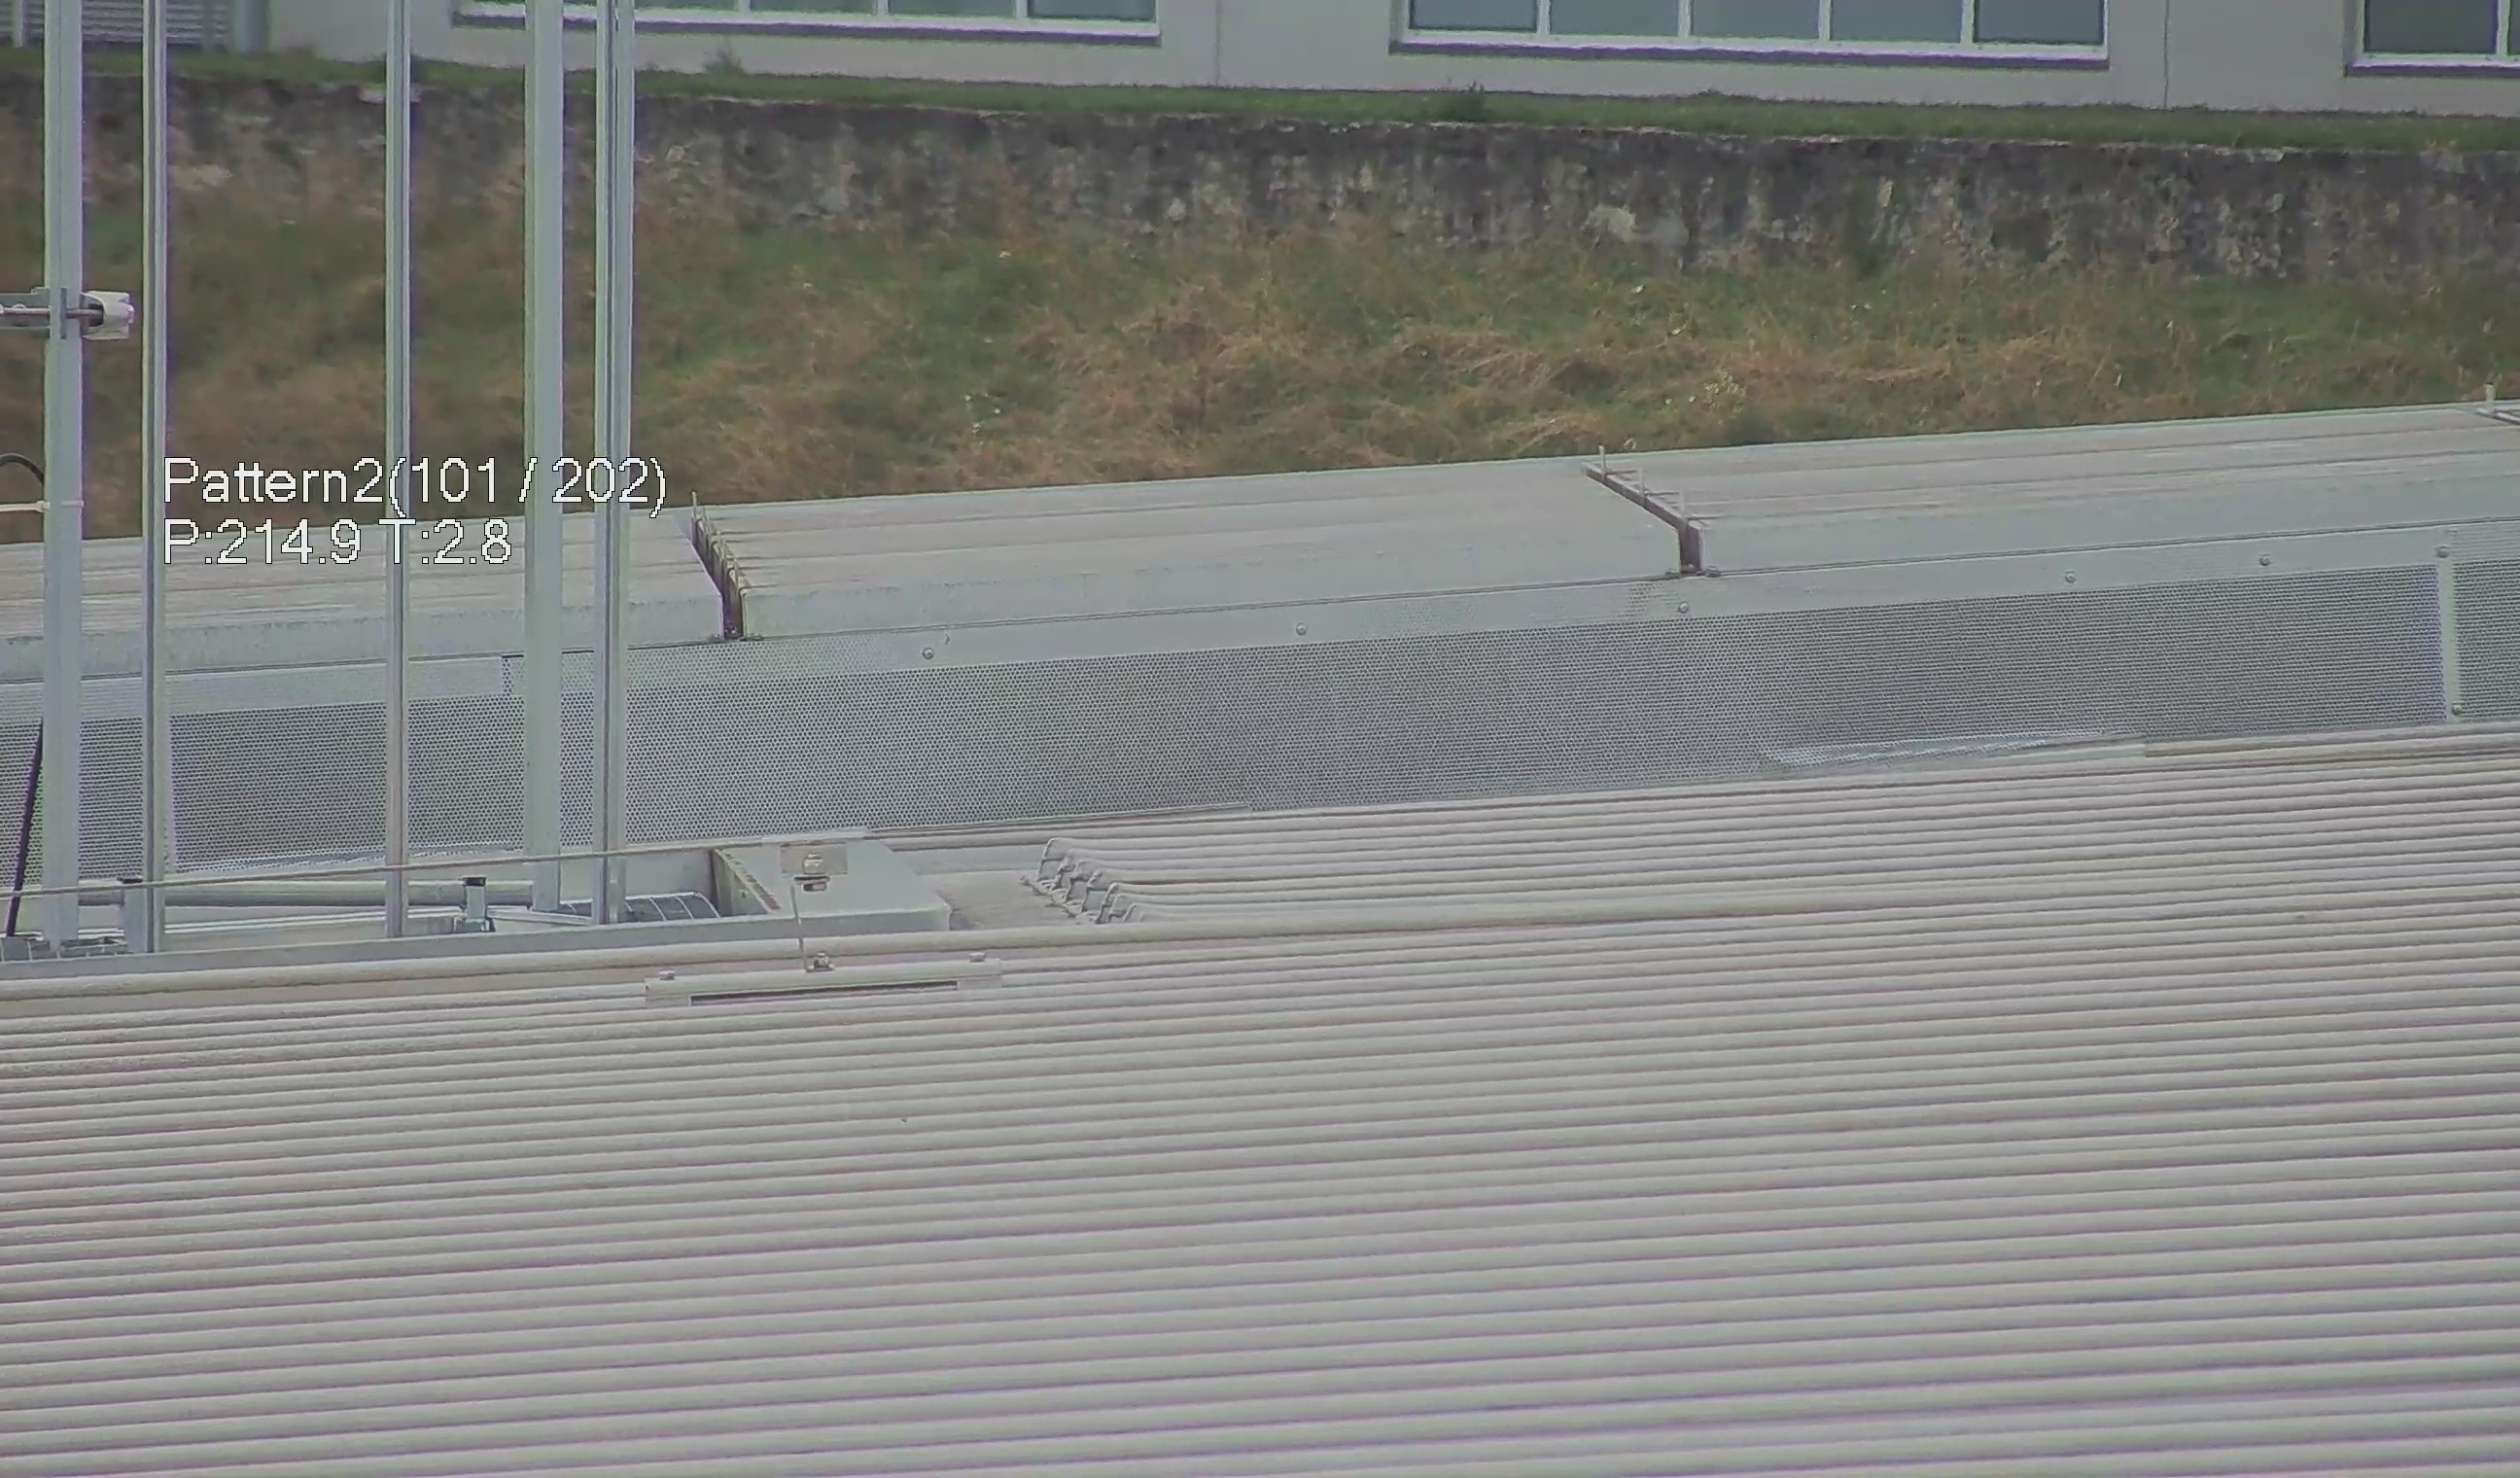Other: (651, 486, 754, 635)
